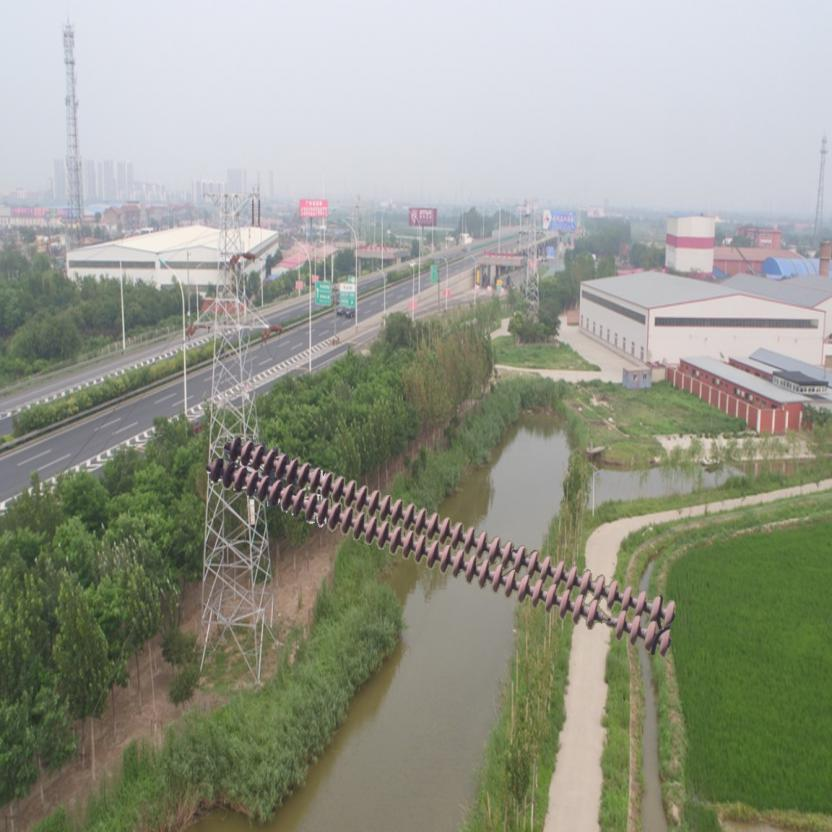defect: (584, 595, 629, 640)
